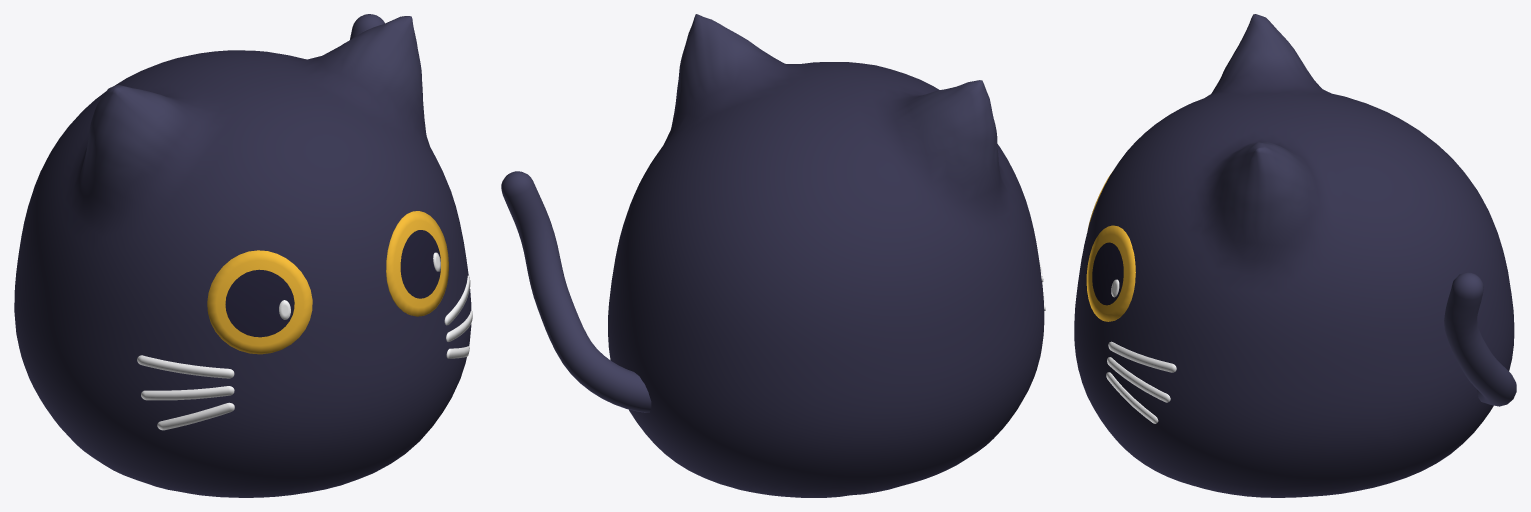
The model's file is cat_v2.glb.
3 views of the same model, side by side, from view 1: azimuth 30°, elevation 25°; view 2: azimuth 150°, elevation 25°; view 3: azimuth 270°, elevation 25° (orthographic). The views are drawn at different scales.
Visible parts, largest first — view 1: Body, Eye_R, Eye_L, Whiskers_R, Whiskers_L; view 2: Body, Tail; view 3: Body, Tail, Eye_L, Whiskers_L.
Part boxes in pixels (x1,y1,x2,y2): Body: (14,16,471,497); Eye_R: (207,250,312,354); Eye_L: (386,211,448,316); Whiskers_R: (137,355,234,430); Whiskers_L: (444,275,472,358); Body: (608,14,1044,497); Tail: (501,171,651,412); Body: (1074,14,1514,497); Tail: (1444,272,1516,406); Eye_L: (1086,225,1135,321); Whiskers_L: (1106,341,1176,423).
Size of the model in its own units: 1.33 by 1.17 by 1.28.
